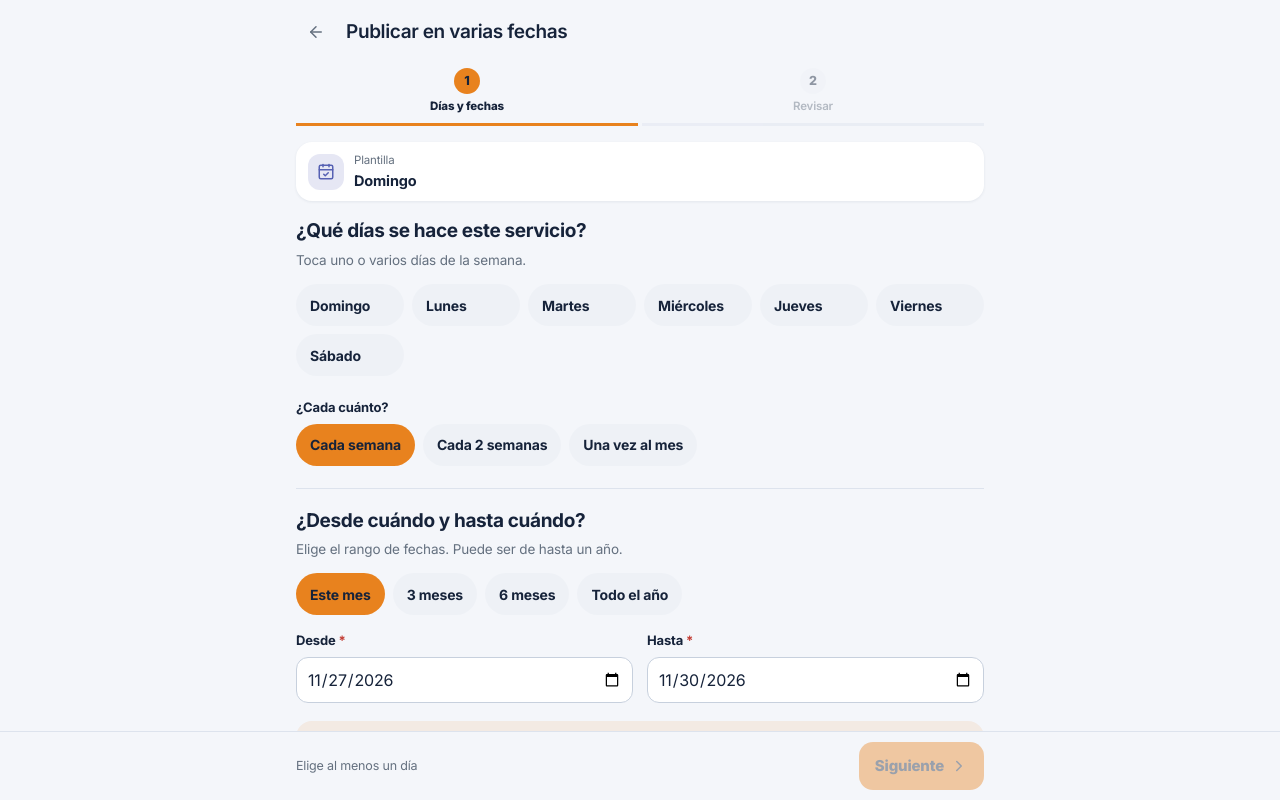
it: PublicarVariasFechas › dos servicios el mismo día: cada uno con su hora, sin marcarse como repetido
The image size is (1280, 800).
Click the button "Domingo" at (350, 305), box [296,284,404,326]
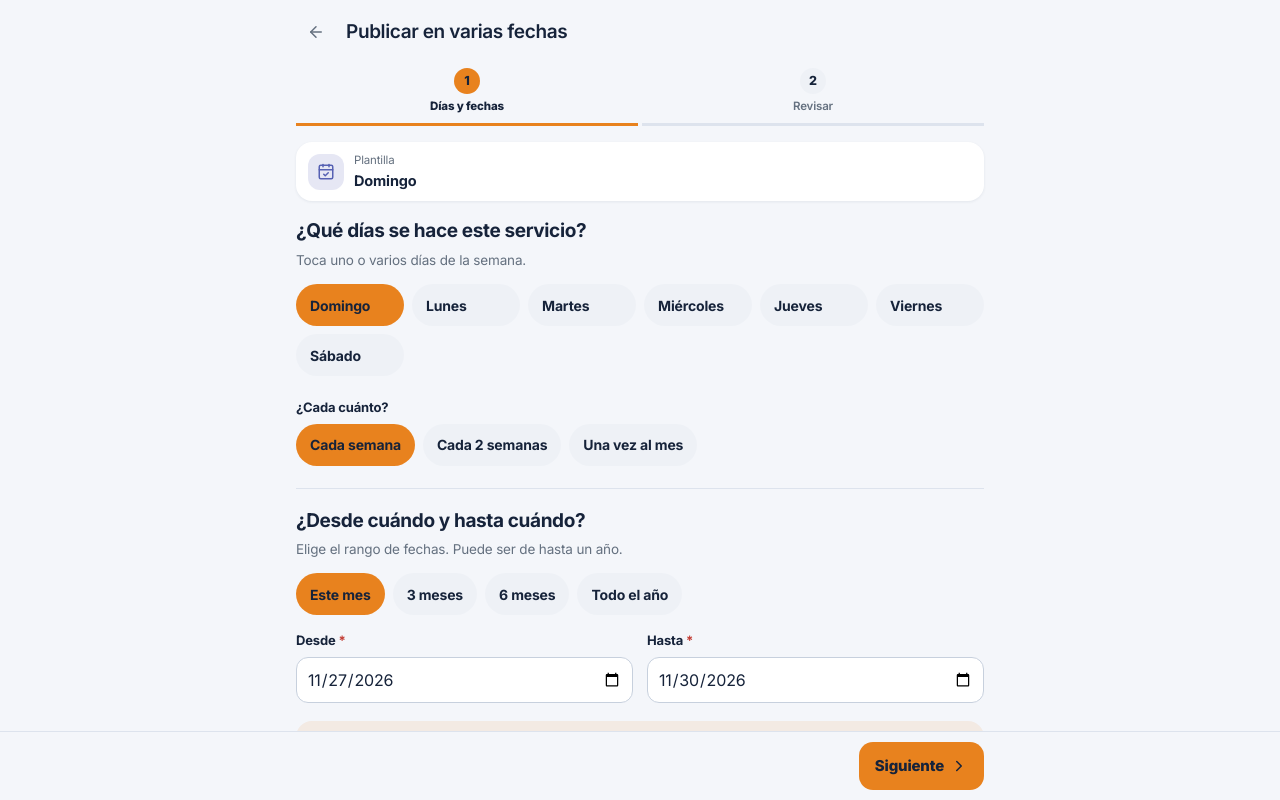
Type "2026-12-01" into the 1st date field at (464, 680), box [296,657,633,703]
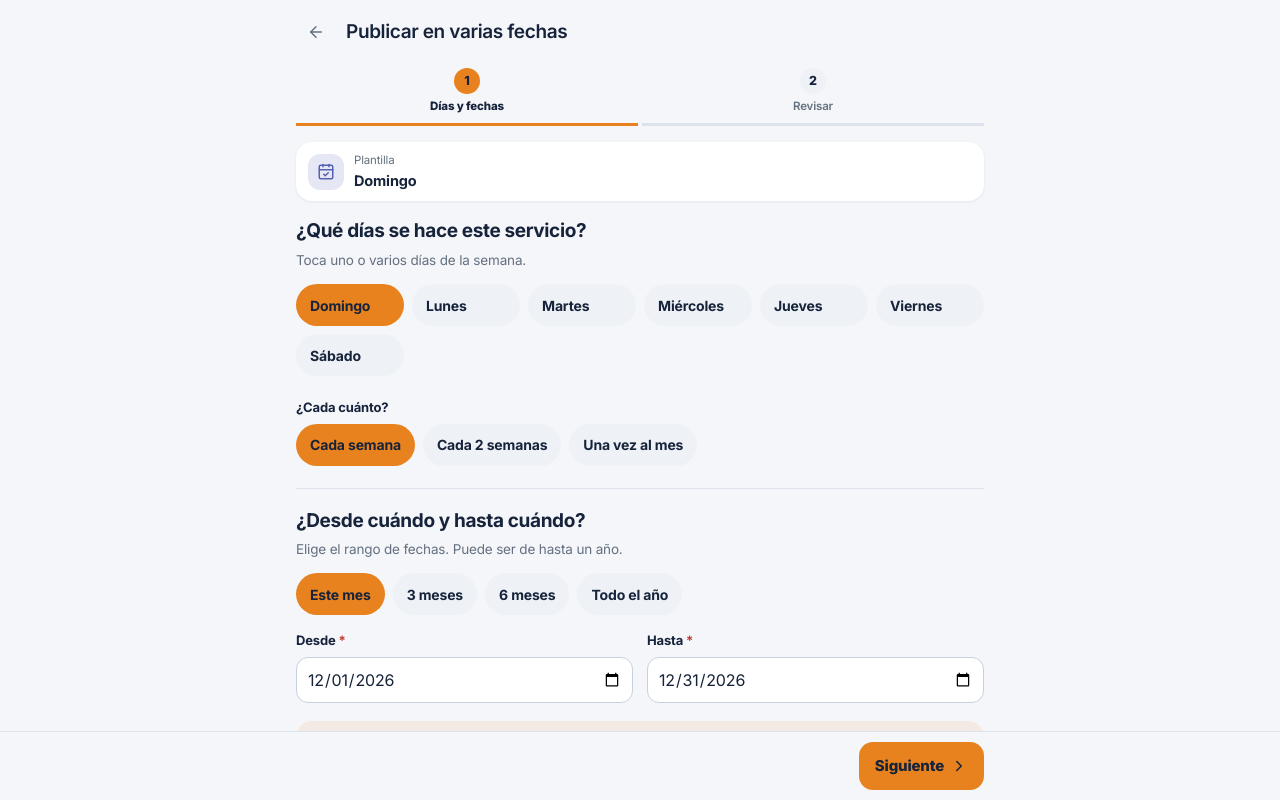
Type "2026-12-10" into the 2nd date field at (816, 680), box [647,657,984,703]
(page scrolled)
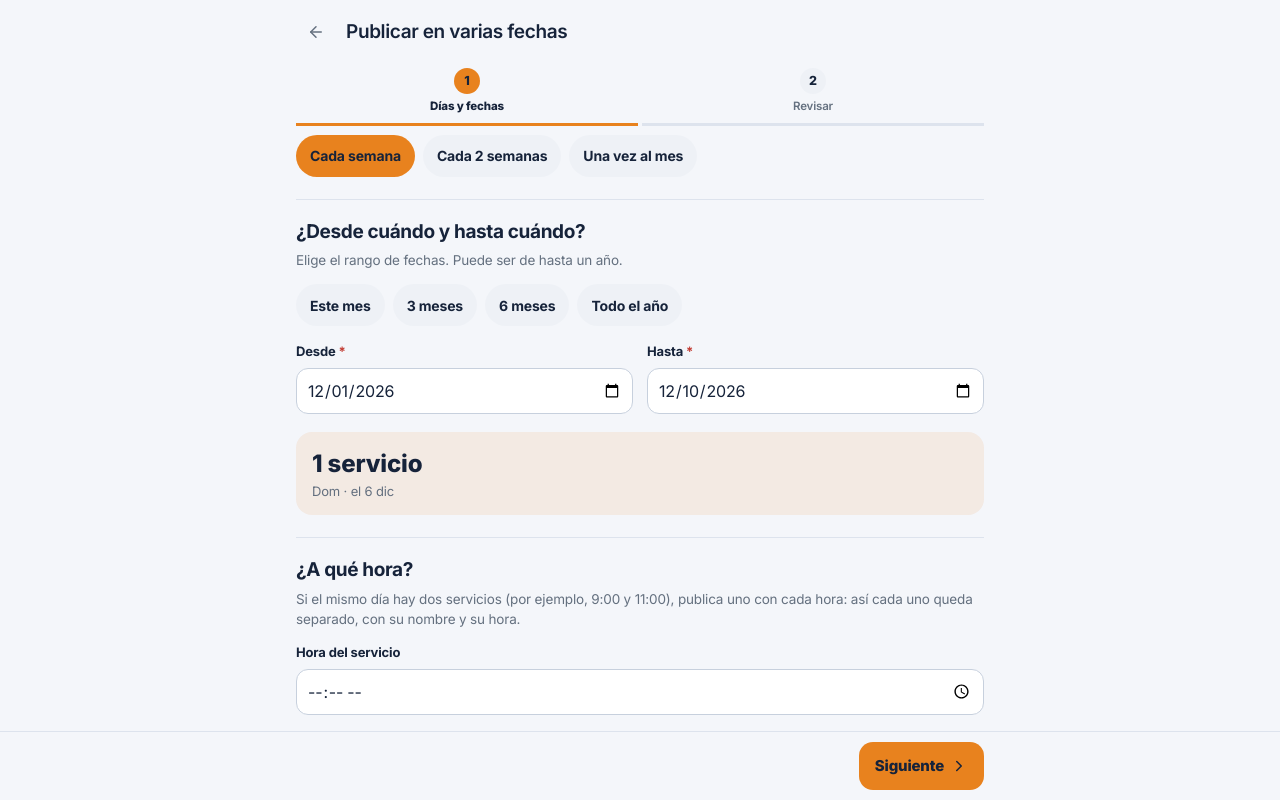
Type "11:00" into the time field at (640, 692), box [296,669,984,715]
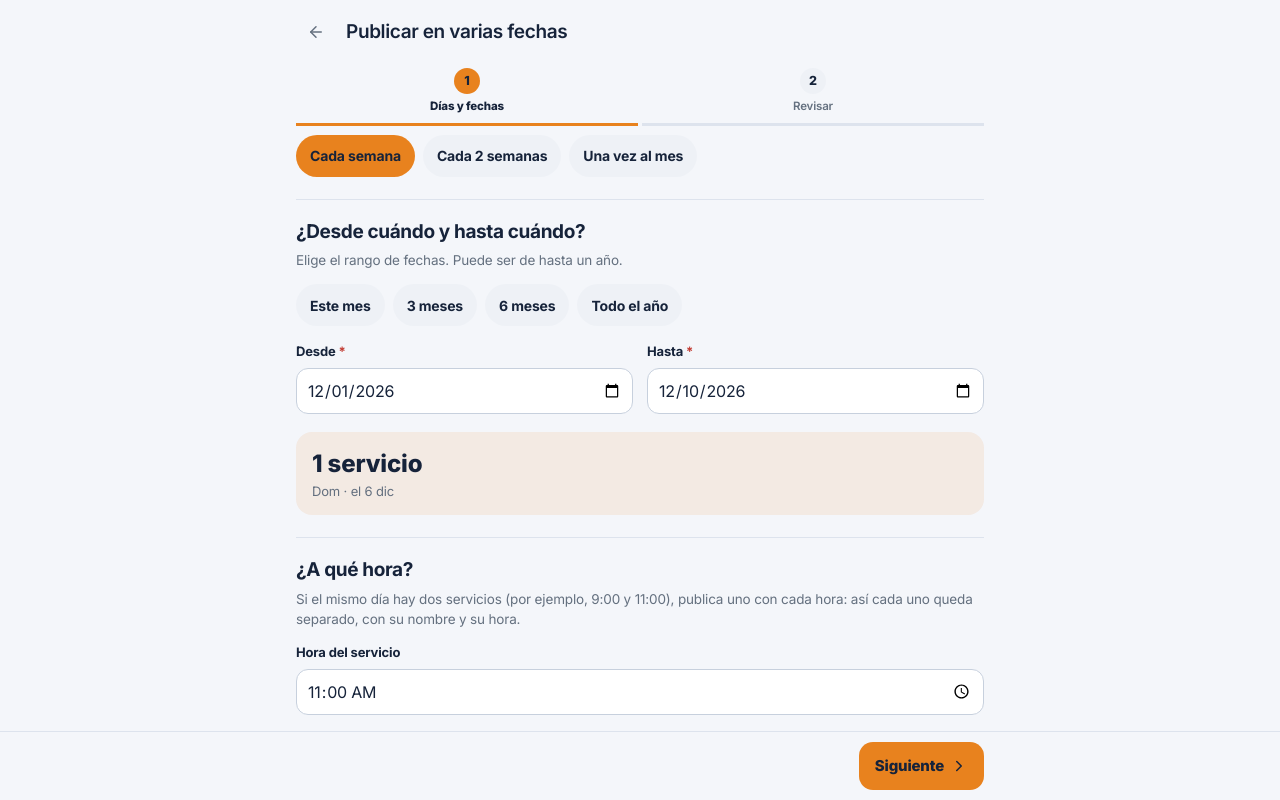
Click the button "Siguiente" at (921, 766), box [859,742,984,790]
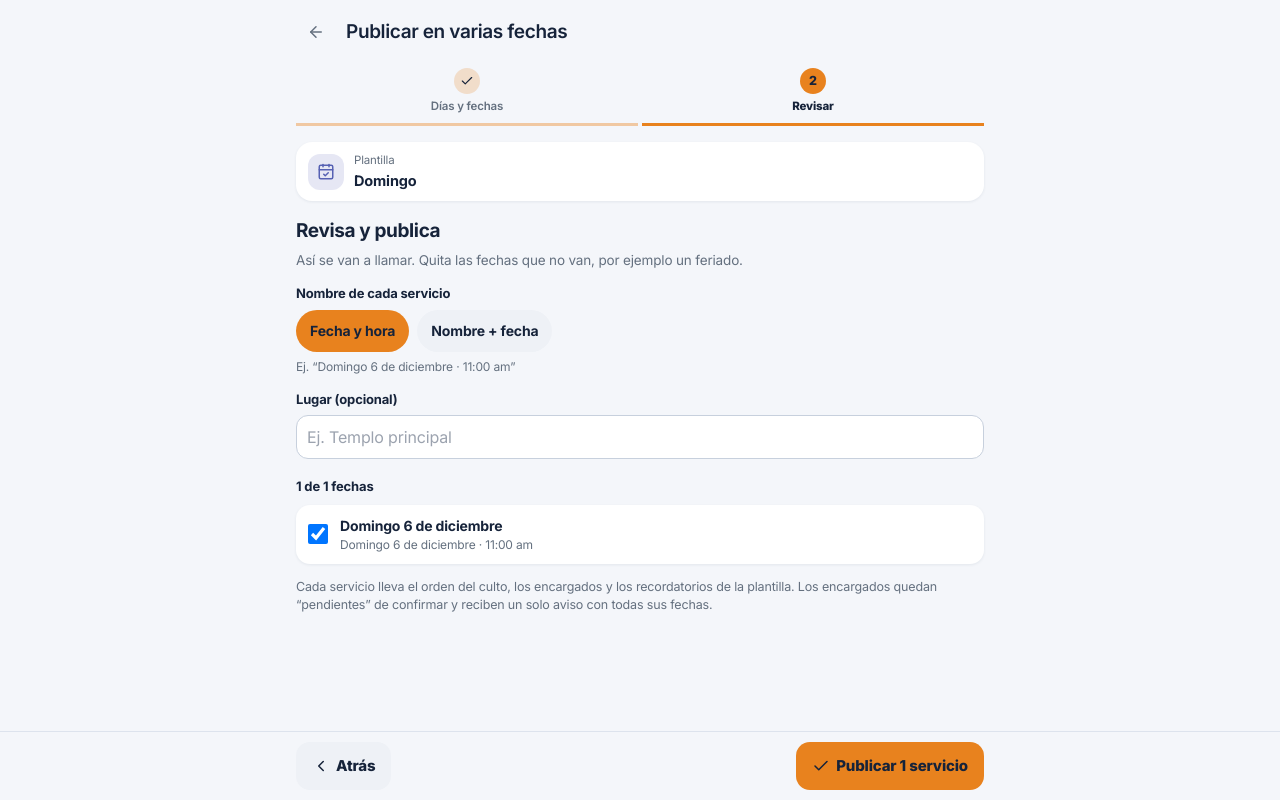
Now the text "Domingo 6 de diciembre · 11:00 am" is shown, box [340,536,533,552]
Click the button "Nombre + fecha" at (485, 330), box [417,310,552,352]
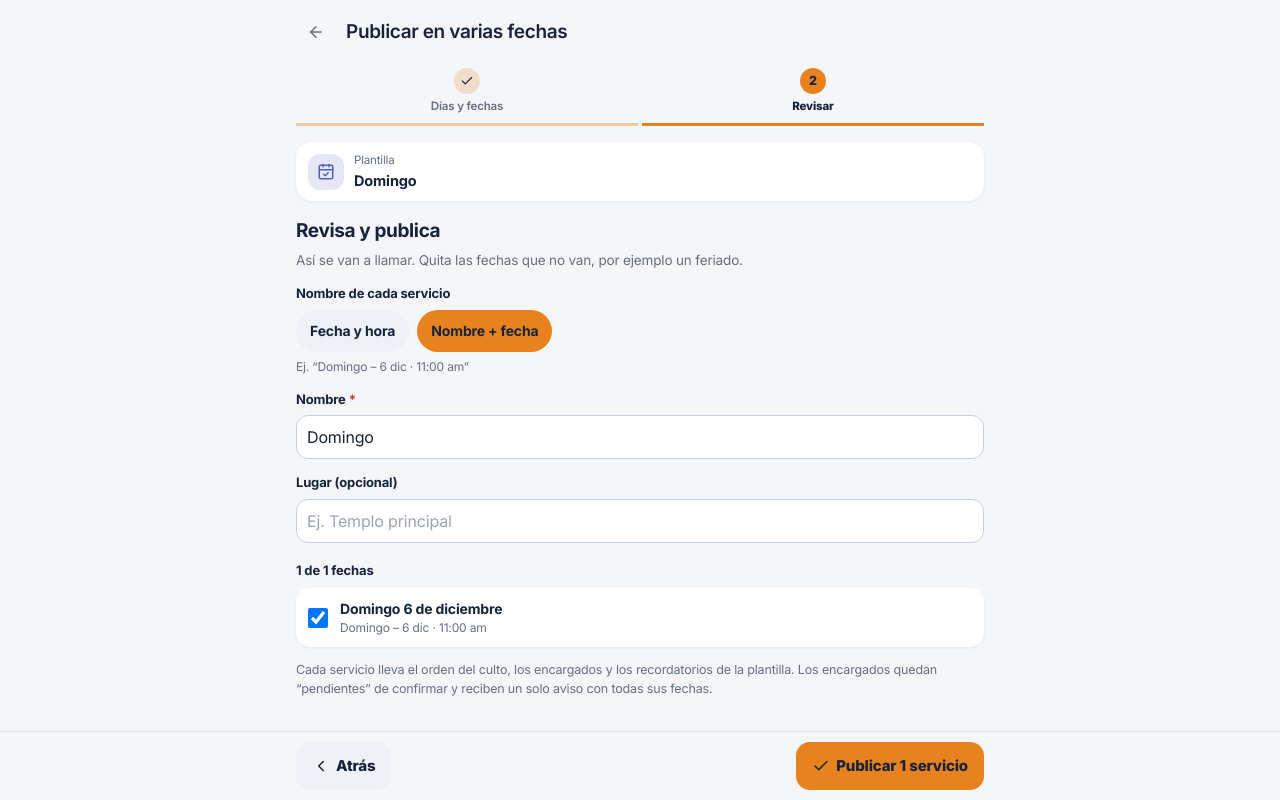
Now the text "Domingo – 6 dic · 11:00 am" is shown, box [340,620,487,635]
